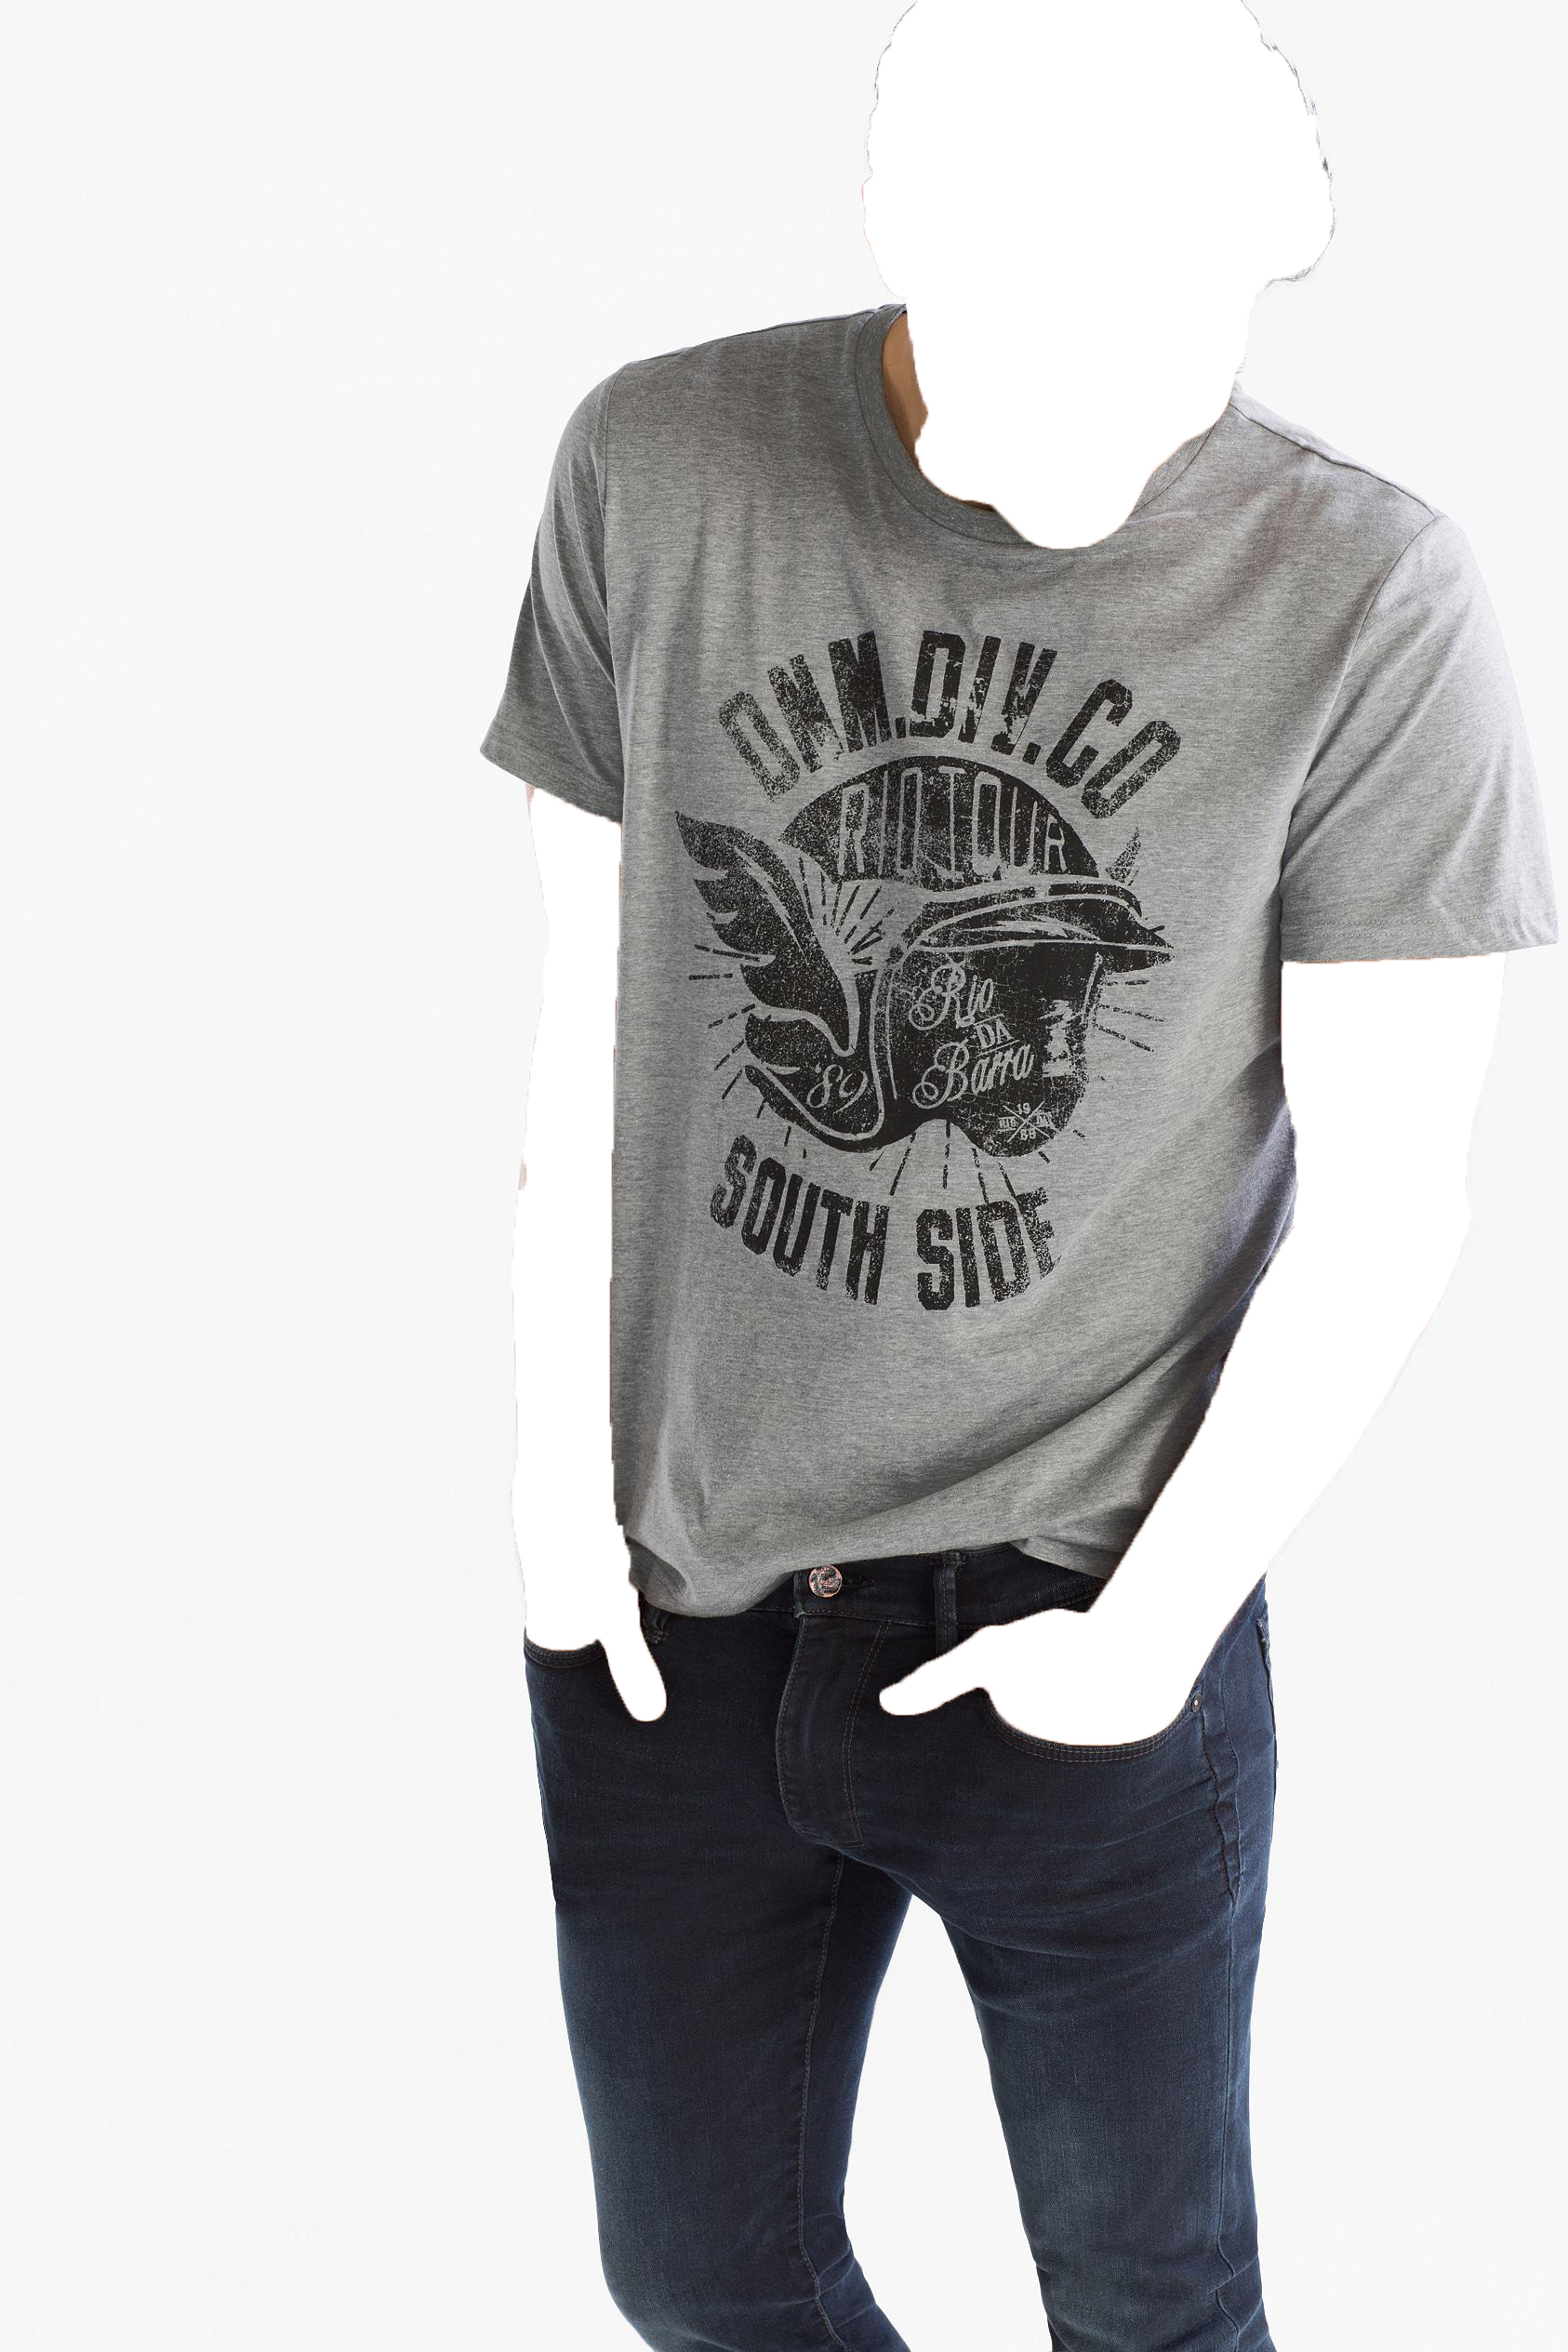teeshirt: (478, 292, 1558, 1654)
